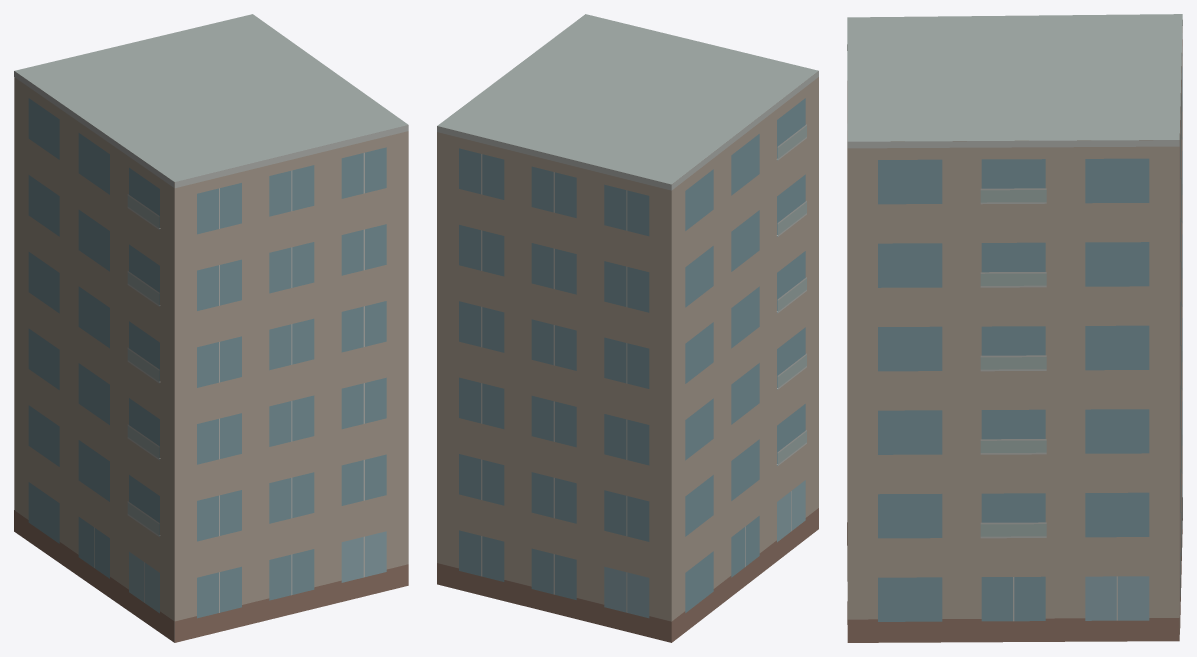
File: survey-upis-32973118.glb
3 views of the same model, side by side, from view 1: azimuth 30°, elevation 25°; view 2: azimuth 150°, elevation 25°; view 3: azimuth 270°, elevation 25° (orthographic). The views are drawn at different scales.
Visible parts, largest first — view 1: survey-upis-32973118.tmp; view 2: survey-upis-32973118.tmp; view 3: survey-upis-32973118.tmp.
Part boxes in pixels (<box>): survey-upis-32973118.tmp: <box>14,14,408,642</box>; survey-upis-32973118.tmp: <box>437,14,818,642</box>; survey-upis-32973118.tmp: <box>847,14,1182,642</box>.
Bounding box in the file's own units: 10.01 × 18.3 × 11.12.
